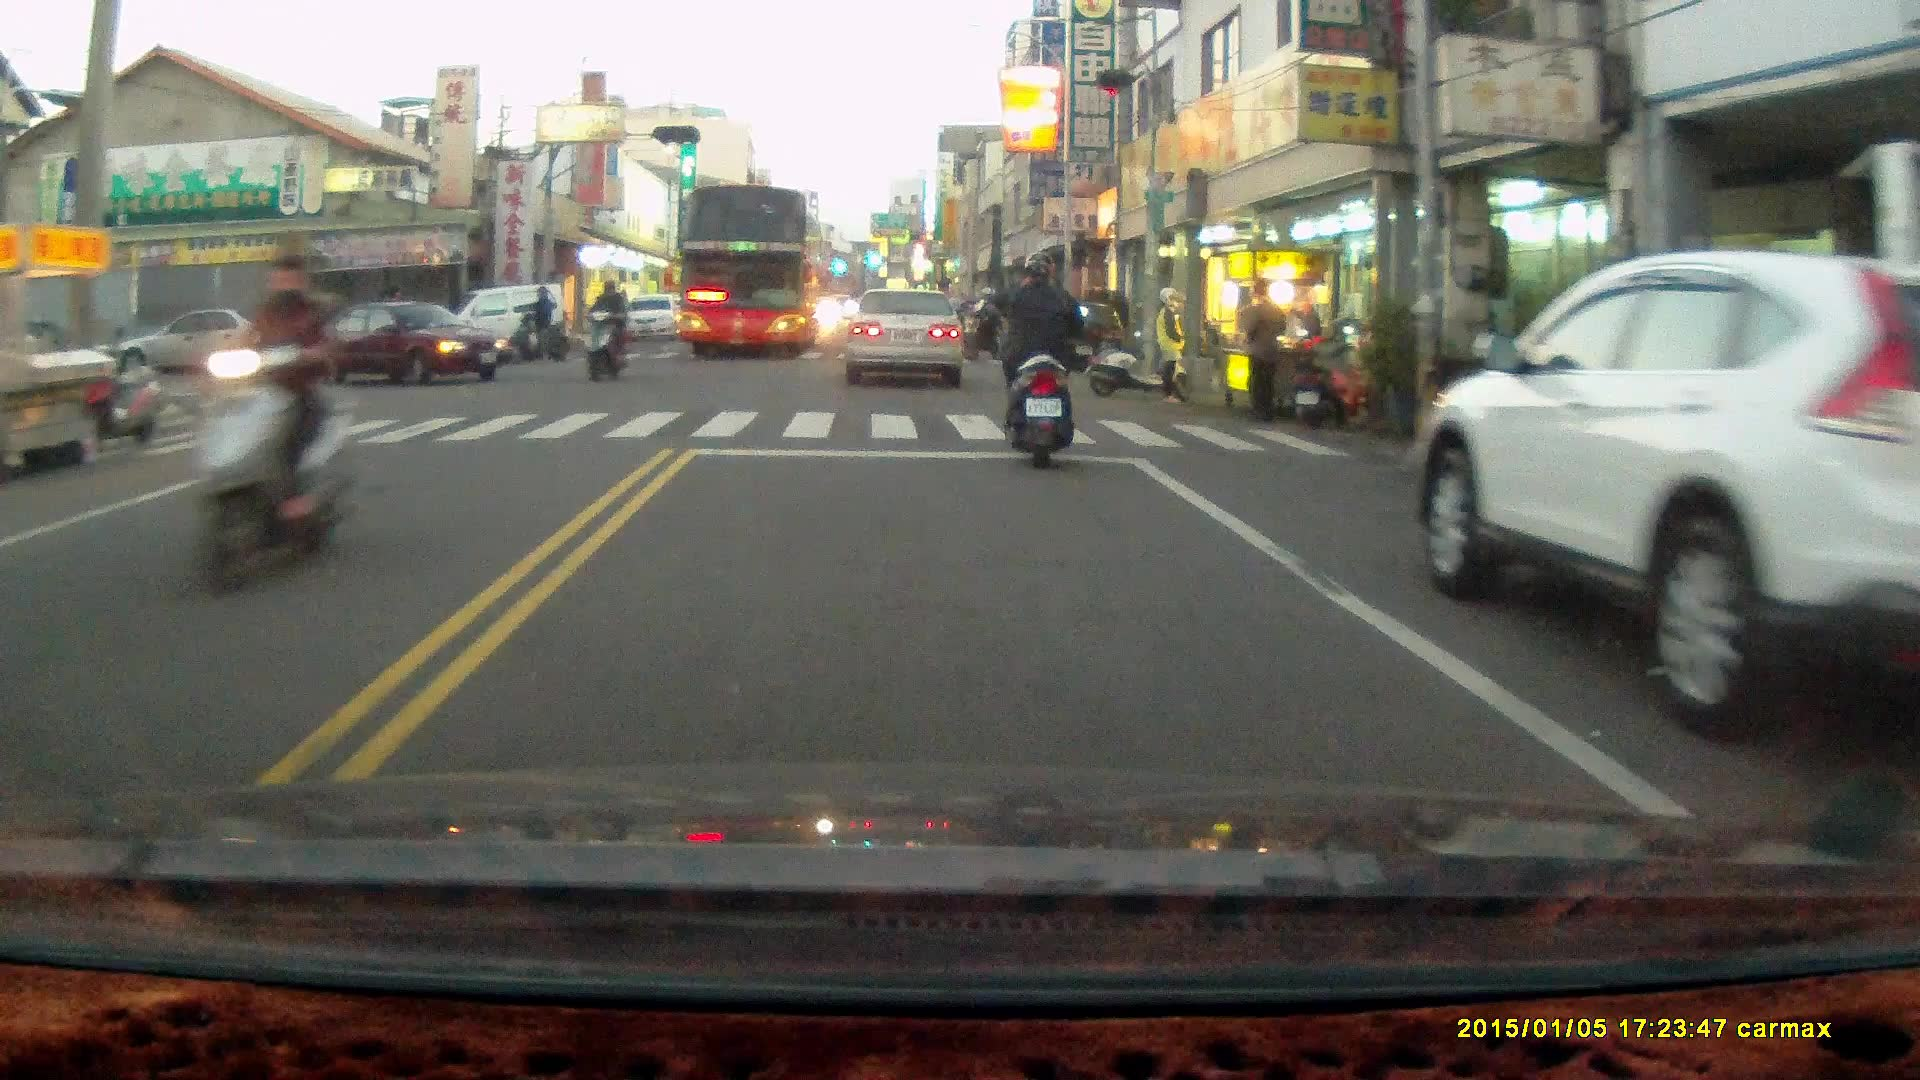pedestrian: (1241, 277, 1284, 425), (1150, 285, 1188, 408)
rider: (194, 228, 359, 598), (989, 251, 1089, 470), (505, 283, 568, 362), (581, 279, 628, 383), (960, 285, 1013, 365)
vehicle: (1412, 250, 1919, 746), (674, 189, 821, 368), (308, 300, 505, 387), (433, 280, 577, 375), (844, 287, 968, 393), (107, 311, 280, 380), (1032, 300, 1128, 377), (613, 288, 695, 343)
